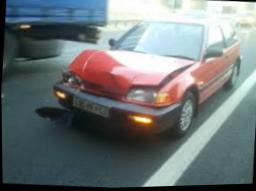Bonnet: (67, 49, 193, 97)
Bumper: (32, 101, 155, 141)
Light: (62, 68, 82, 88)
